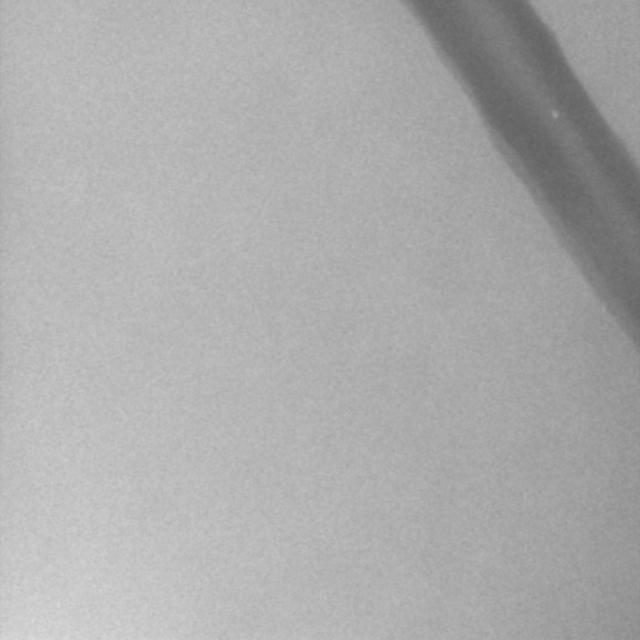air-hole: (552, 110, 562, 121)
